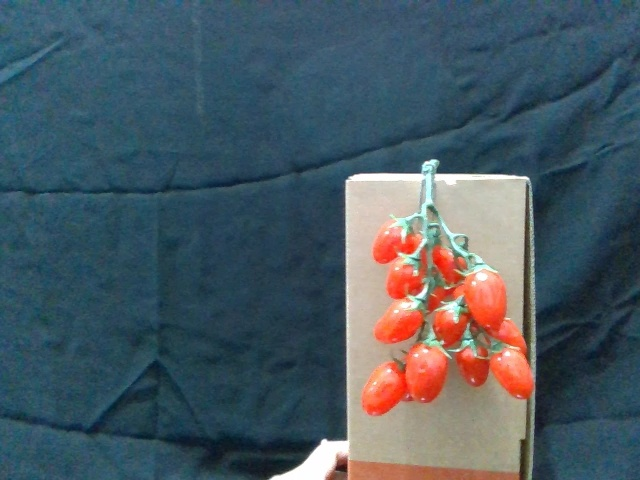tomato: (463, 258, 506, 328), (360, 355, 405, 416), (408, 337, 448, 404), (491, 341, 534, 400), (376, 293, 423, 343), (375, 215, 420, 263), (388, 247, 427, 296), (434, 296, 470, 348), (455, 333, 491, 385)
